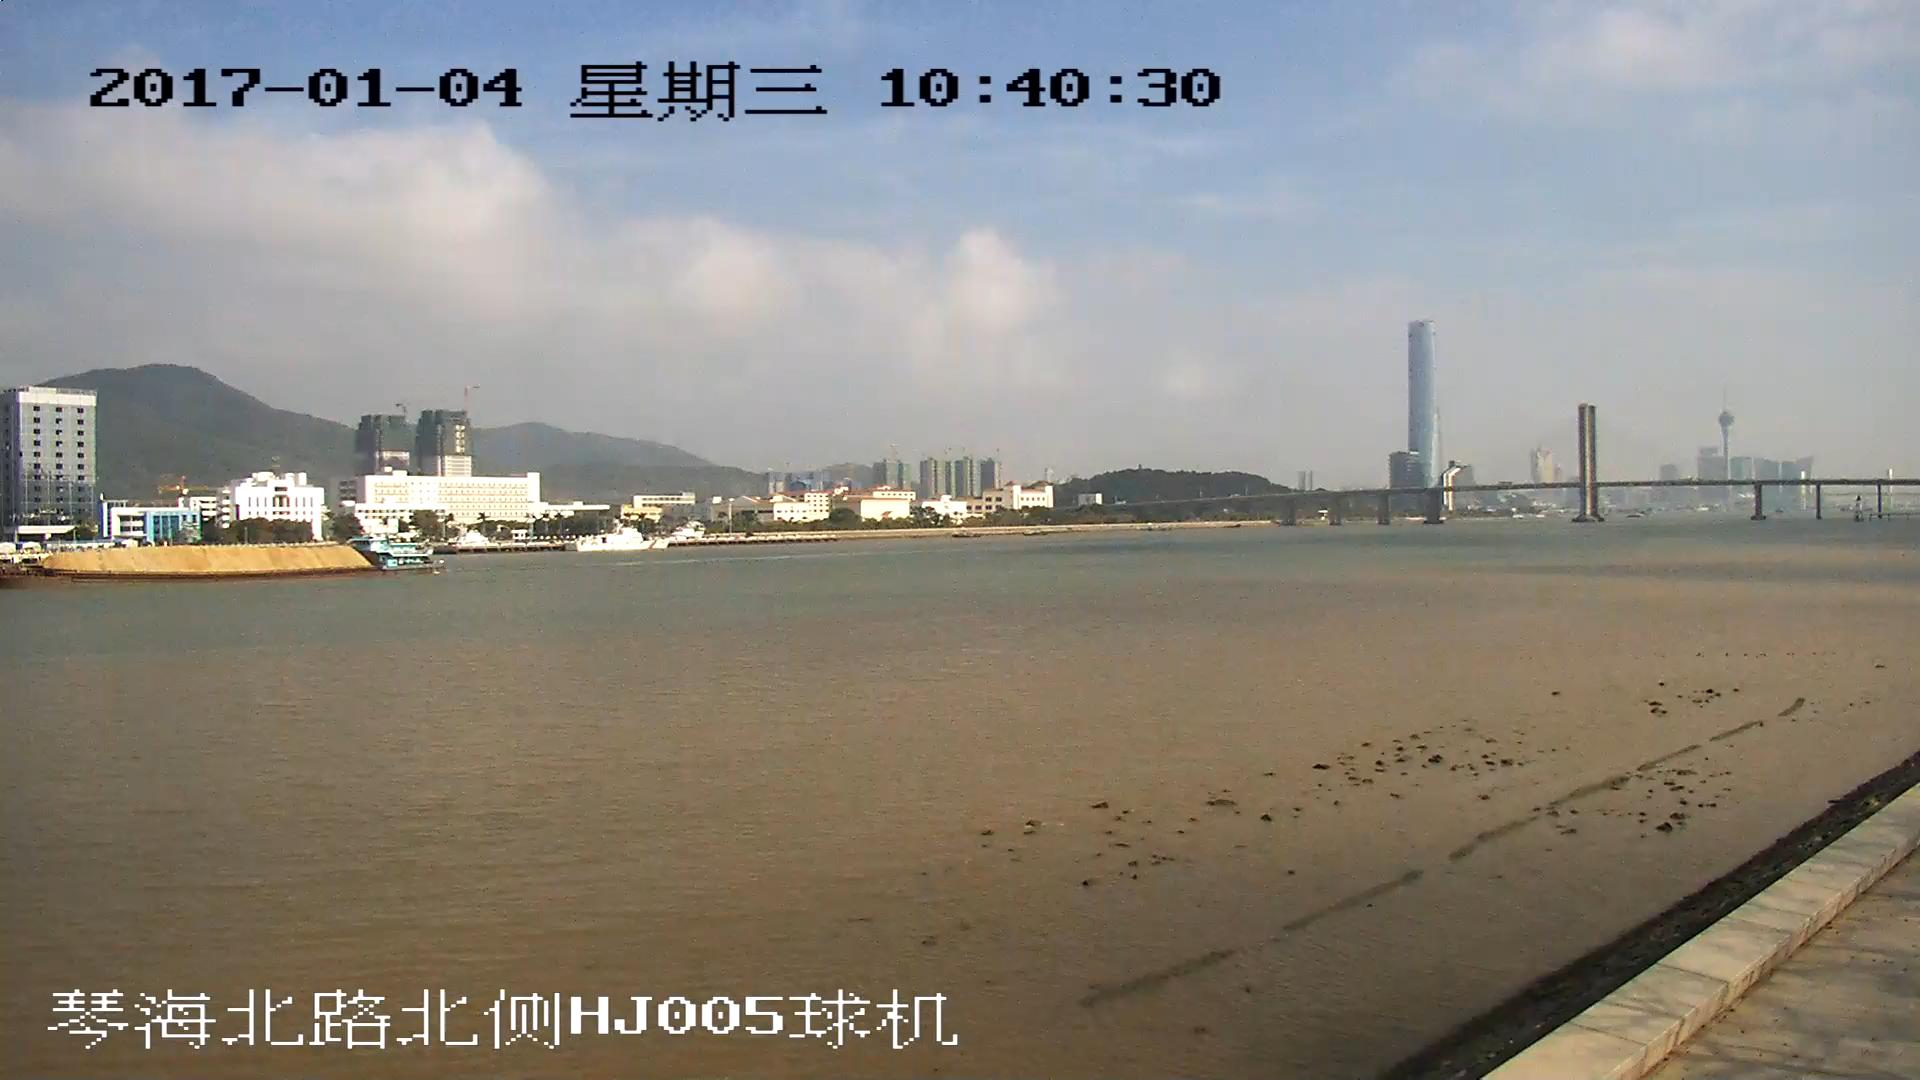ore carrier: (1, 536, 440, 577)
